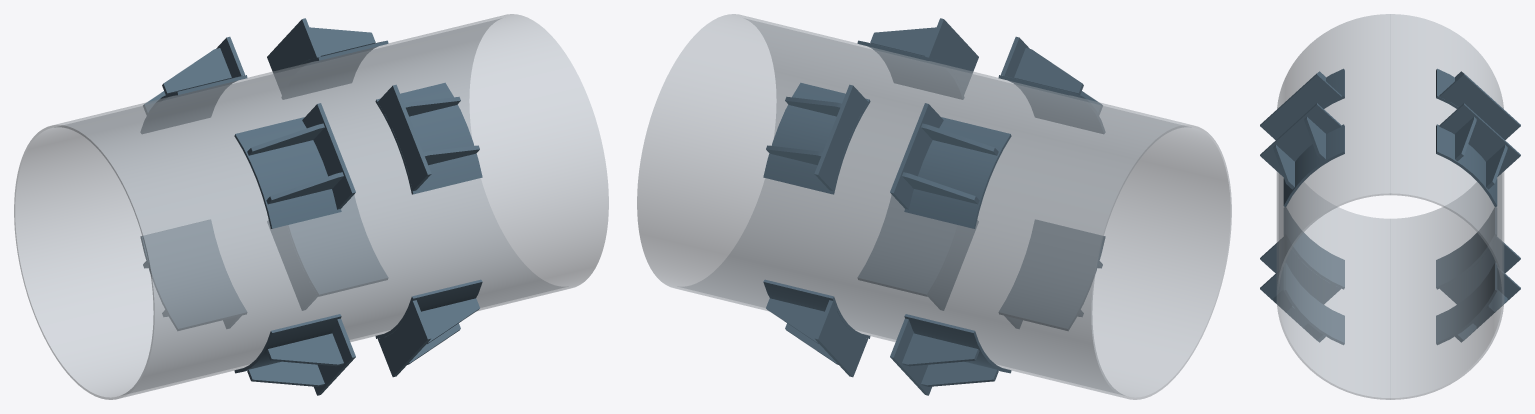
Rendered from TS-664.00.00-06-opora-dn1020-ris2.glb.
3 views of the same model, side by side, from view 1: azimuth 30°, elevation 25°; view 2: azimuth 150°, elevation 25°; view 3: azimuth 270°, elevation 25° (orthographic). The views are drawn at different scales.
Visible parts, largest first — view 1: truba, det_24, det_8, det_20, det_4, det_32, det_28, det_1, det_9, det_5, det_25, det_14 (+13 smaller); view 2: truba, det_16, det_32, det_12, det_28, det_8, det_4, det_25, det_17, det_29, det_1, det_23 (+13 smaller); view 3: truba, det_5, det_29, det_12, det_20, det_16, det_24, det_1, det_25, det_13, det_21, det_4 (+11 smaller).
Boxes of the visible parts, x1=… form: truba: x1=14, y1=14, x2=608, y2=399; det_24: x1=140, y1=220, x2=246, y2=330; det_8: x1=234, y1=117, x2=341, y2=228; det_20: x1=287, y1=195, x2=387, y2=296; det_4: x1=375, y1=82, x2=482, y2=194; det_32: x1=141, y1=75, x2=247, y2=133; det_28: x1=282, y1=40, x2=388, y2=99; det_1: x1=378, y1=84, x2=431, y2=190; det_9: x1=378, y1=300, x2=431, y2=377; det_5: x1=302, y1=103, x2=355, y2=209; det_25: x1=267, y1=18, x2=320, y2=93; det_14: x1=266, y1=333, x2=343, y2=366; truba: x1=637, y1=14, x2=1231, y2=399; det_16: x1=999, y1=220, x2=1105, y2=330; det_32: x1=904, y1=117, x2=1011, y2=228; det_12: x1=858, y1=195, x2=958, y2=296; det_28: x1=763, y1=82, x2=870, y2=194; det_8: x1=998, y1=75, x2=1104, y2=133; det_4: x1=857, y1=40, x2=963, y2=99; det_25: x1=814, y1=84, x2=867, y2=190; det_17: x1=814, y1=300, x2=867, y2=377; det_29: x1=890, y1=103, x2=943, y2=209; det_1: x1=925, y1=18, x2=978, y2=93; det_23: x1=902, y1=333, x2=979, y2=366; truba: x1=1276, y1=14, x2=1504, y2=399; det_5: x1=1260, y1=73, x2=1341, y2=139; det_29: x1=1439, y1=73, x2=1520, y2=139; det_12: x1=1283, y1=262, x2=1344, y2=344; det_20: x1=1436, y1=262, x2=1497, y2=344; det_16: x1=1284, y1=207, x2=1344, y2=289; det_24: x1=1436, y1=207, x2=1496, y2=289; det_1: x1=1260, y1=103, x2=1341, y2=176; det_25: x1=1439, y1=103, x2=1520, y2=176; det_13: x1=1260, y1=237, x2=1340, y2=304; det_21: x1=1440, y1=237, x2=1520, y2=304; det_4: x1=1283, y1=124, x2=1344, y2=206.
Bounding box in the file's own units: 1900 × 1167 × 1167.
